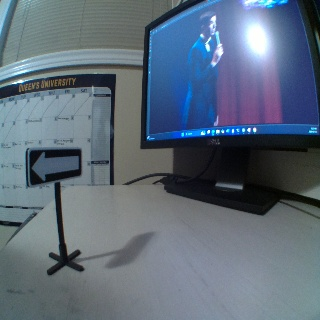sign_oneway_left: (24, 146, 82, 184)
